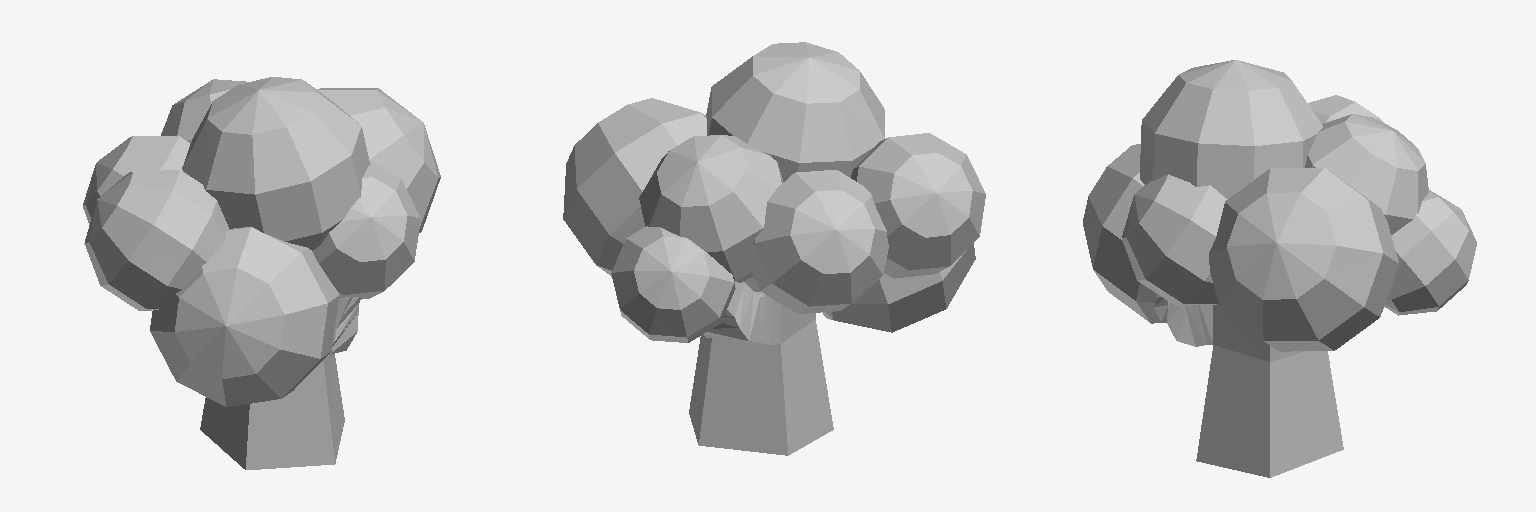
The model's file is Broccoli.obj.
The picture shows the model from 3 angles: view 1: azimuth 30°, elevation 25°; view 2: azimuth 150°, elevation 25°; view 3: azimuth 270°, elevation 25°; orthographic projection.
Visible parts, largest first — view 1: Broccoli; view 2: Broccoli; view 3: Broccoli.
Part boxes in pixels (x1,y1,x2,y2): Broccoli: (83,77,440,469); Broccoli: (563,42,985,455); Broccoli: (1083,60,1476,477).
Size of the model in its own units: 0.3362 by 0.3268 by 0.3127.